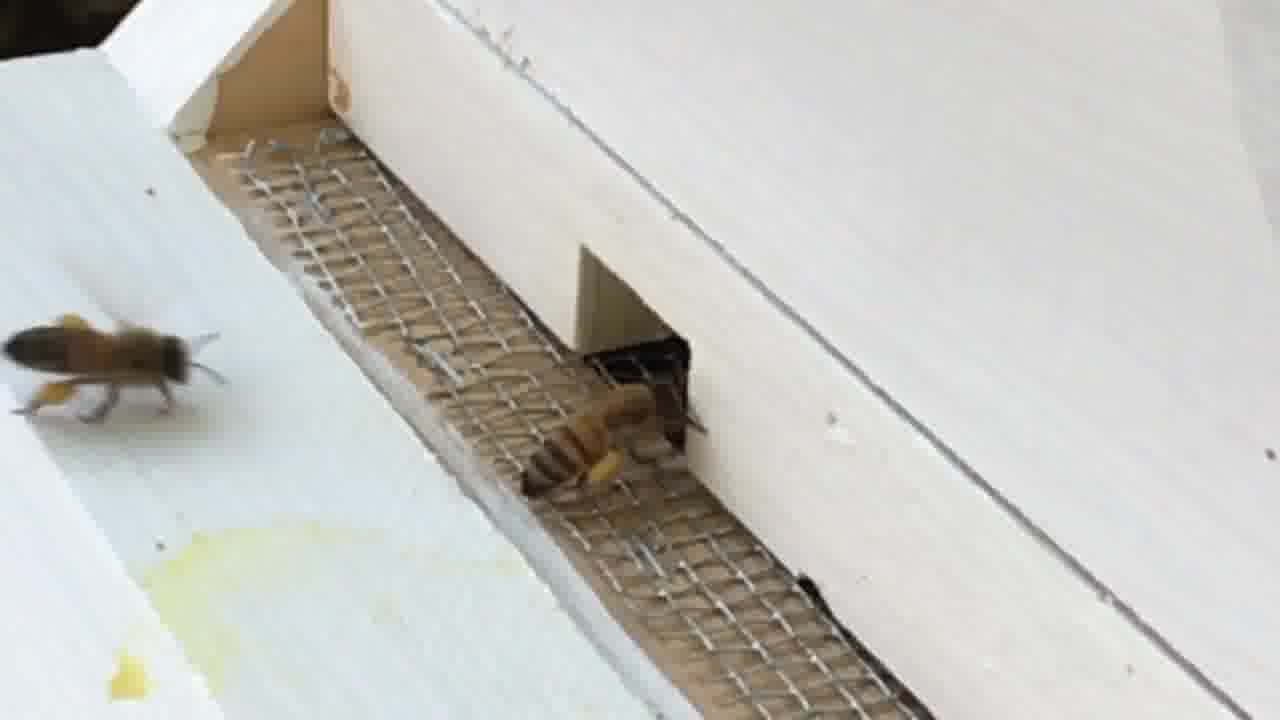pollen: (5, 301, 205, 431), (521, 376, 687, 499)
